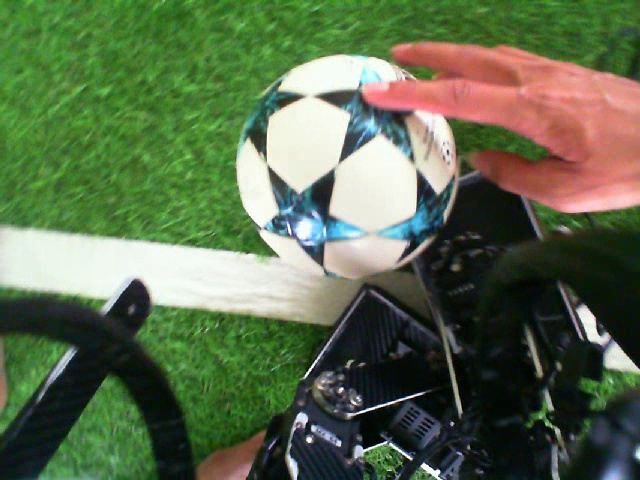ball: (234, 52, 462, 282)
